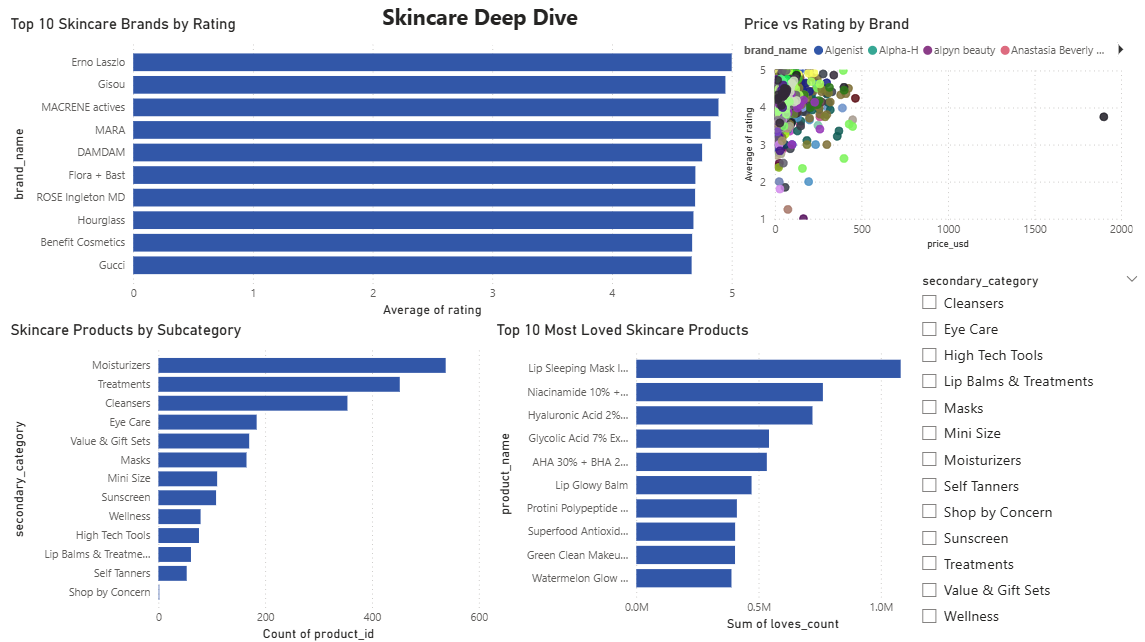

This screenshot's page, from the dashboard's own definition file:
{"tool":"powerbi","page":{"name":"Skincare Deep Dive","canvas":[1280,720],"ordinal":3},"visuals":[{"type":"clusteredBarChart","title":"Top 10 Skincare Brands by Rating","fields":{"Y":["Avg(clean_products.rating)"],"Category":["clean_products.brand_name"]},"box":[10,20,815,340],"z":0},{"type":"clusteredBarChart","title":"Skincare Products by Subcategory","fields":{"Category":["clean_products.secondary_category"],"Y":["CountNonNull(clean_products.product_id)"]},"box":[10,360,540,360],"z":1000},{"type":"scatterChart","title":"Price vs Rating by Brand","fields":{"Y":["clean_products.rating"],"X":["clean_products.price_usd"],"Series":["clean_products.brand_name"]},"box":[825,20,441.7,265],"z":2000},{"type":"clusteredBarChart","title":"Top 10 Most Loved Skincare Products","fields":{"Category":["clean_products.product_name"],"Y":["Sum(clean_products.loves_count)"]},"box":[550,360,505,348.3],"z":3000},{"type":"slicer","fields":{"Values":["clean_products.secondary_category"]},"box":[1015,301.7,265,418.3],"z":4000},{"type":"textbox","box":[418.3,0,236.7,53.3],"z":5000}]}

Visuals, with their boxes in screenshot pixels (x1, y1, x2, y2), scaled from the page's 1280x720 canvas onto the 1145x642 screenshot:
"Top 10 Skincare Brands by Rating" clusteredBarChart: (9, 18, 738, 321)
"Skincare Products by Subcategory" clusteredBarChart: (9, 321, 492, 641)
"Price vs Rating by Brand" scatterChart: (738, 18, 1133, 254)
"Top 10 Most Loved Skincare Products" clusteredBarChart: (492, 321, 944, 632)
slicer - clean_products.secondary_category: (908, 269, 1144, 641)
textbox: (374, 0, 586, 48)
